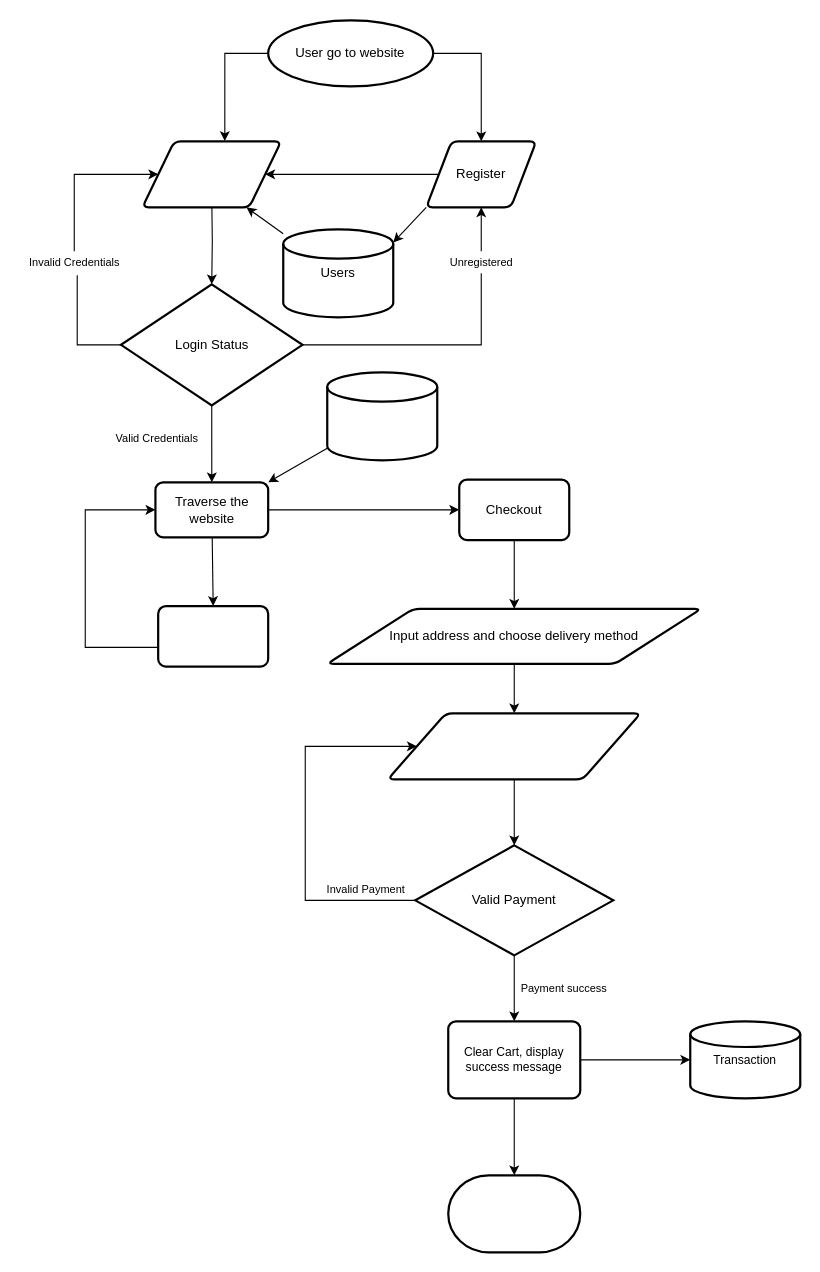
Image size: 820x1272. Some labels were removed from this diagram. Each missing label, with the centre of its shape:
"Add to Cart" belongs at (213,635).
"End of Checkout" belongs at (514,1213).
"Input Payment Credentials" belongs at (513,746).
"Login" belongs at (211,174).
"Products" belongs at (382,416).
